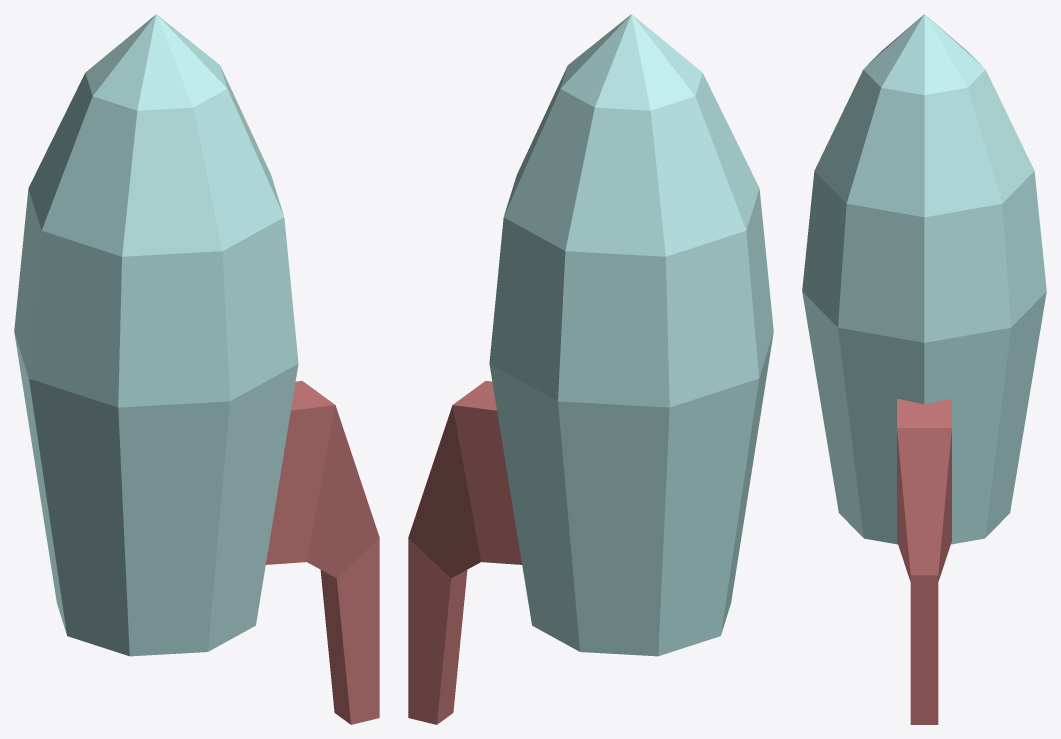
The model's file is rocket.fbx.
3 views of the same model, side by side, from view 1: azimuth 30°, elevation 25°; view 2: azimuth 150°, elevation 25°; view 3: azimuth 270°, elevation 25° (orthographic). The views are drawn at different scales.
Parts seen in each view (by area): view 1: Rocket1_Body, Rocket1_Fin; view 2: Rocket1_Body, Rocket1_Fin; view 3: Rocket1_Body, Rocket1_Fin.
Part boxes in pixels (bbox=[...]): Rocket1_Body: bbox=[14, 14, 298, 656]; Rocket1_Fin: bbox=[266, 381, 379, 724]; Rocket1_Body: bbox=[489, 14, 773, 656]; Rocket1_Fin: bbox=[408, 381, 521, 724]; Rocket1_Body: bbox=[802, 14, 1046, 544]; Rocket1_Fin: bbox=[897, 398, 951, 724].
Size of the model in its own units: 2.39 by 1.78 by 5.
